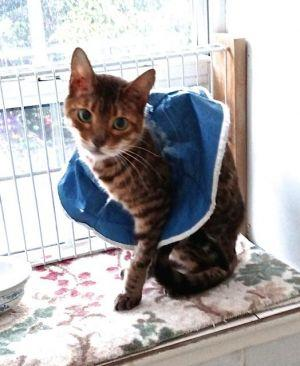bengal: (60, 43, 161, 163)
